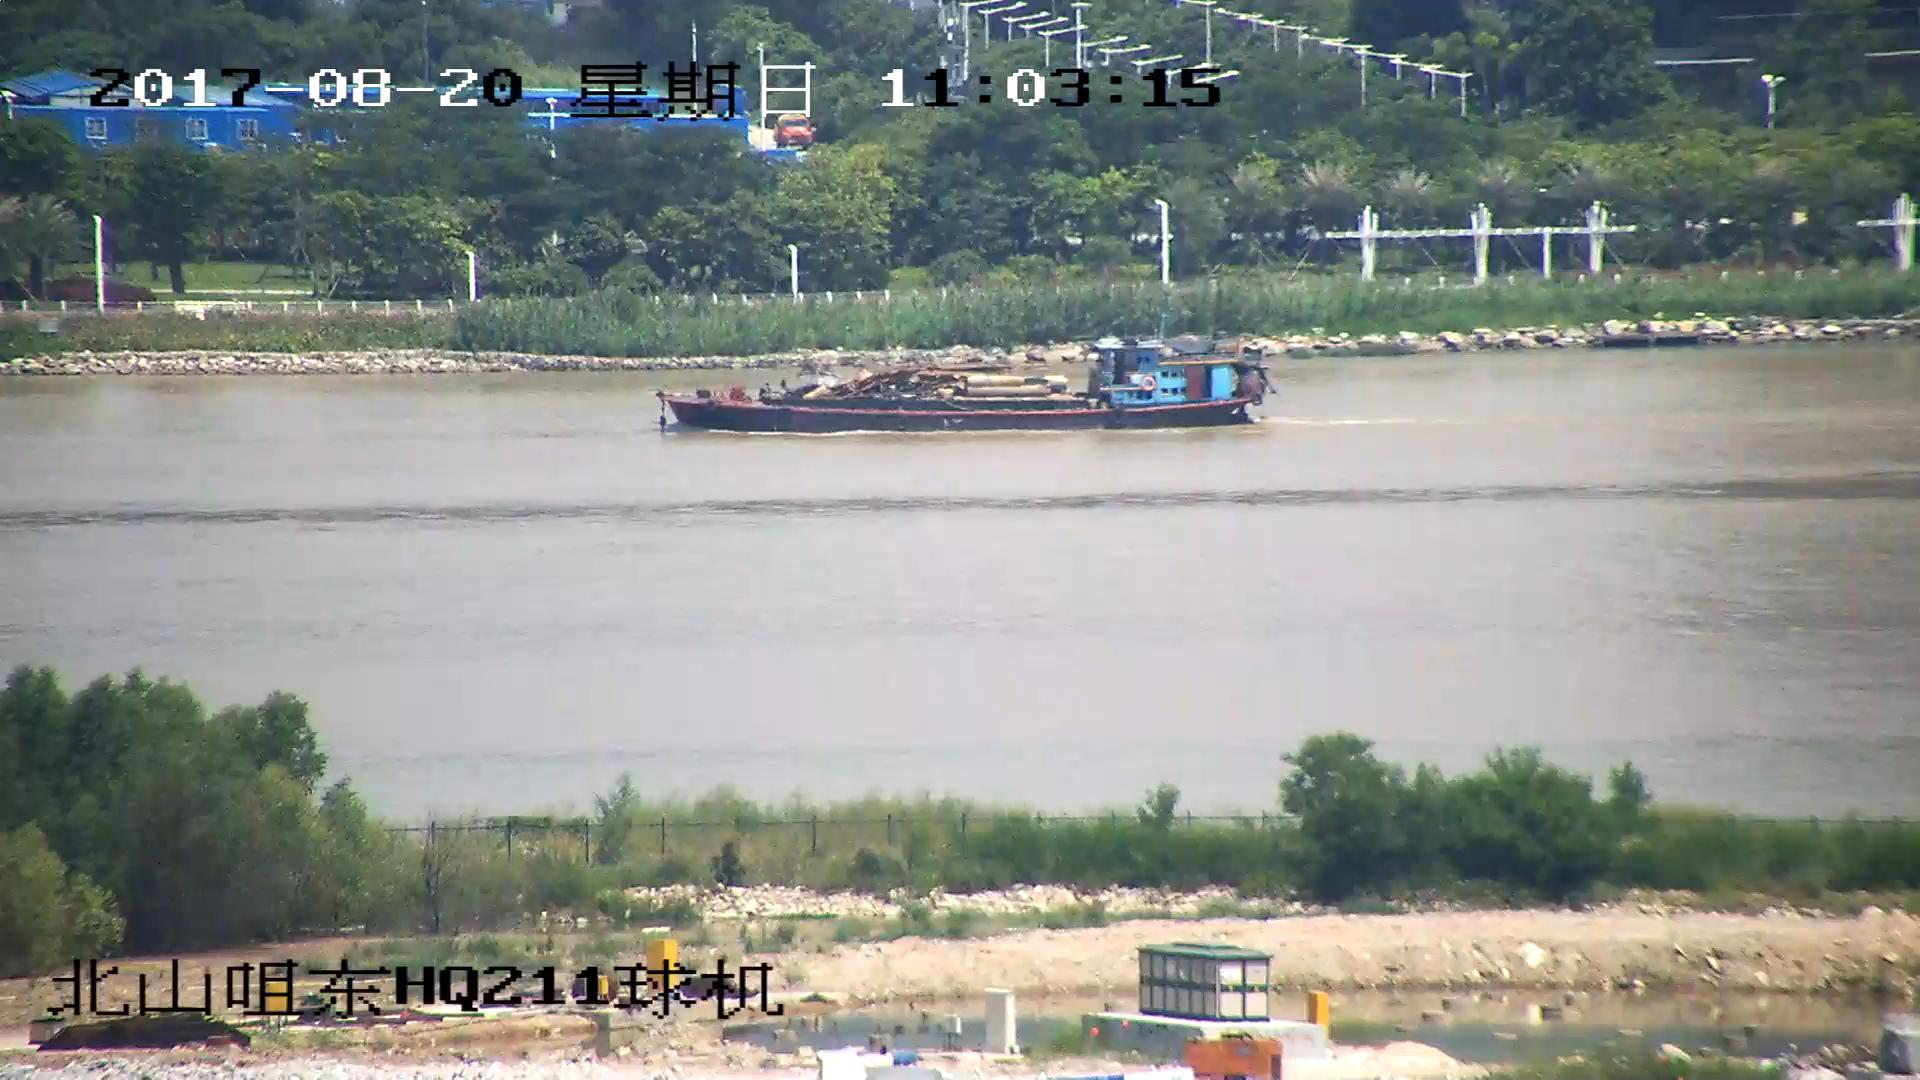Ship: (665, 345, 1273, 435)
